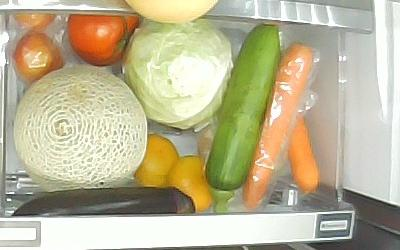cabbage: (121, 17, 235, 130)
carrot: (285, 112, 321, 194)
carrot_vinyl: (242, 42, 314, 210)
eggplant: (10, 185, 195, 215)
melon: (13, 64, 148, 190)
prune_vinyl: (11, 31, 65, 88), (12, 13, 58, 31)
tangerine: (167, 155, 212, 211), (134, 132, 179, 186)
tomato: (67, 15, 141, 67)
zucchini: (205, 24, 281, 213)
